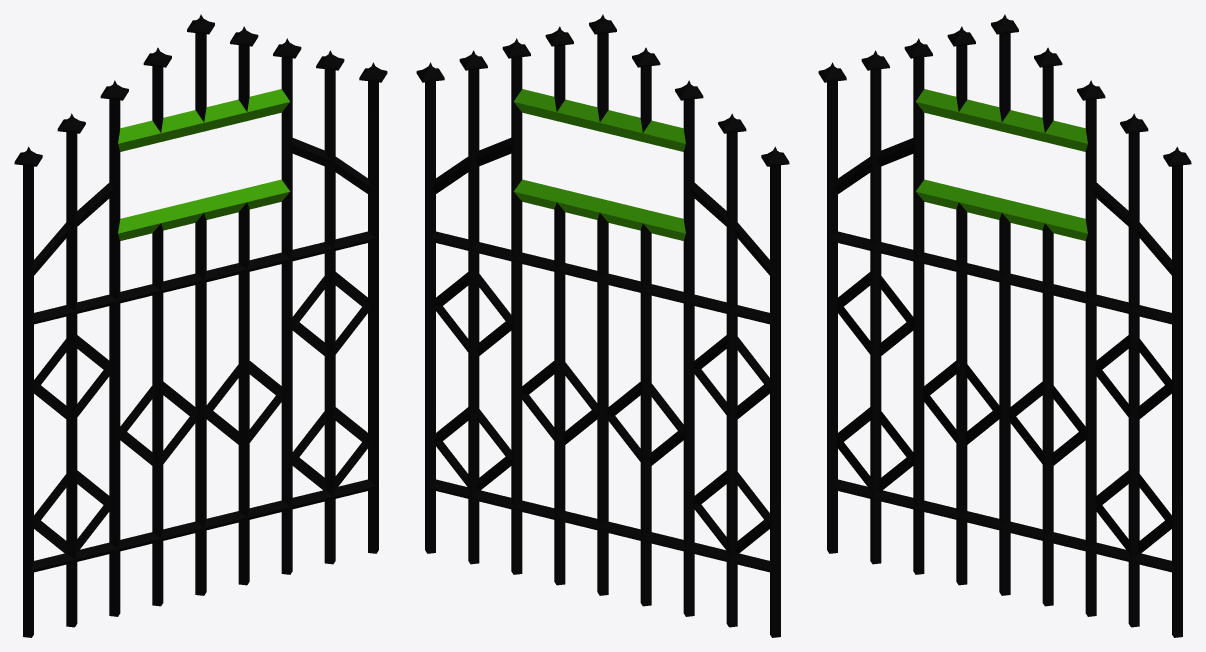
The model's file is Gate 2.fbx.
The picture shows the model from 3 angles, left to right: view 1: azimuth 30°, elevation 25°; view 2: azimuth 150°, elevation 25°; view 3: azimuth 330°, elevation 25°; orthographic projection.
Parts seen in each view (by area): view 1: log_Dracula:log_Dracula:polySurface36; view 2: log_Dracula:log_Dracula:polySurface36; view 3: log_Dracula:log_Dracula:polySurface36.
Boxes of the visible parts, x1,y1,x2,y2 form: log_Dracula:log_Dracula:polySurface36: [14, 14, 387, 637]; log_Dracula:log_Dracula:polySurface36: [416, 14, 789, 637]; log_Dracula:log_Dracula:polySurface36: [818, 14, 1191, 637].
Bounding box in the file's own units: 17.32 × 25.71 × 1.32.
